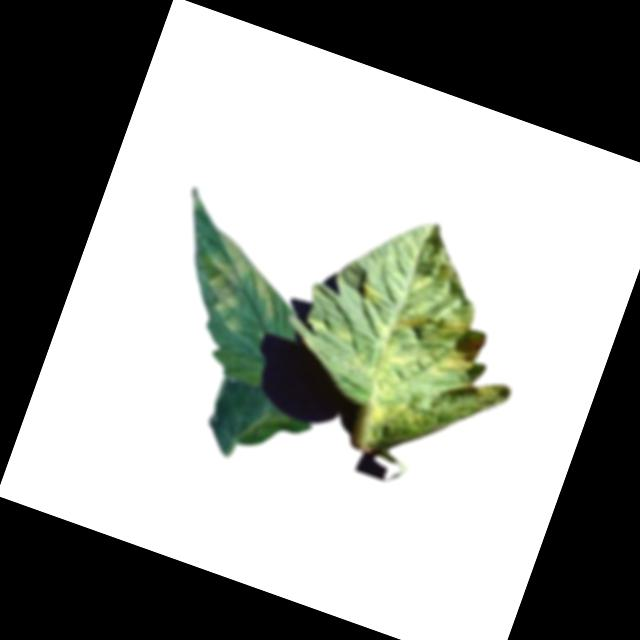Leaf_Mold: (351, 235, 552, 486), (187, 228, 296, 343), (355, 276, 387, 307)
